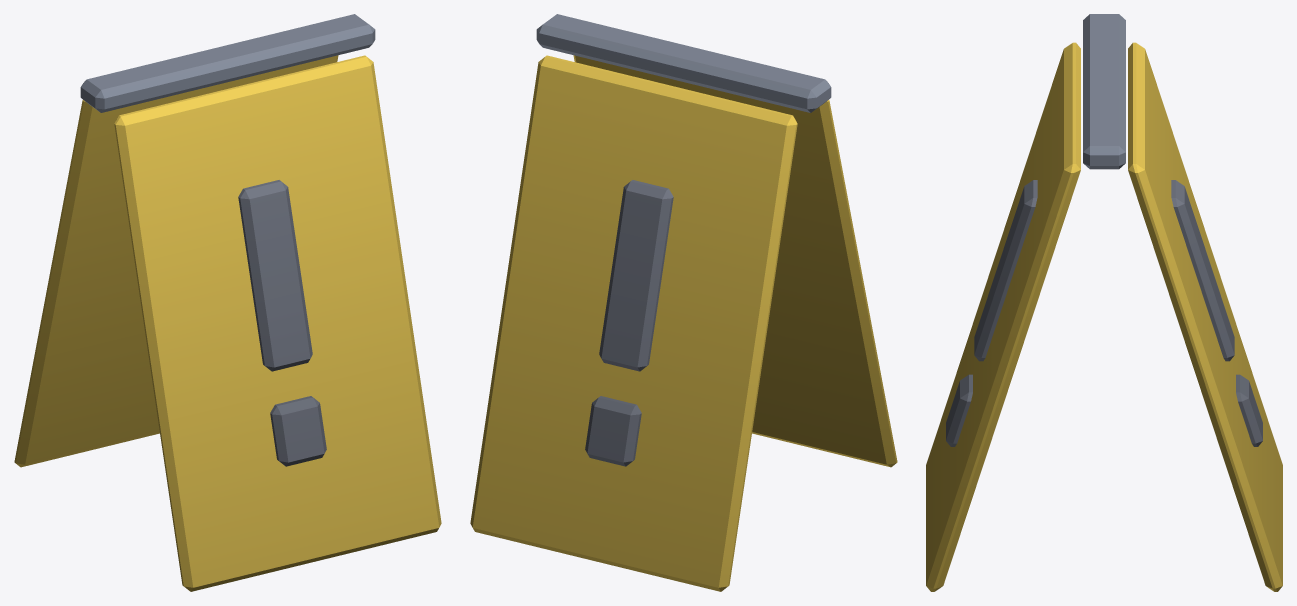
The model's file is hazard_sign.glb.
The picture shows the model from 3 angles, left to right: view 1: azimuth 30°, elevation 25°; view 2: azimuth 150°, elevation 25°; view 3: azimuth 270°, elevation 25°; orthographic projection.
Visible parts, largest first — view 1: hazard_sign; view 2: hazard_sign; view 3: hazard_sign.
Part boxes in pixels (<box>): hazard_sign: <box>14,14,441,591</box>; hazard_sign: <box>470,14,897,591</box>; hazard_sign: <box>926,14,1282,591</box>.
Bounding box in the file's own units: 0.38 × 0.58 × 0.4154.
1 material, 1 textured.
